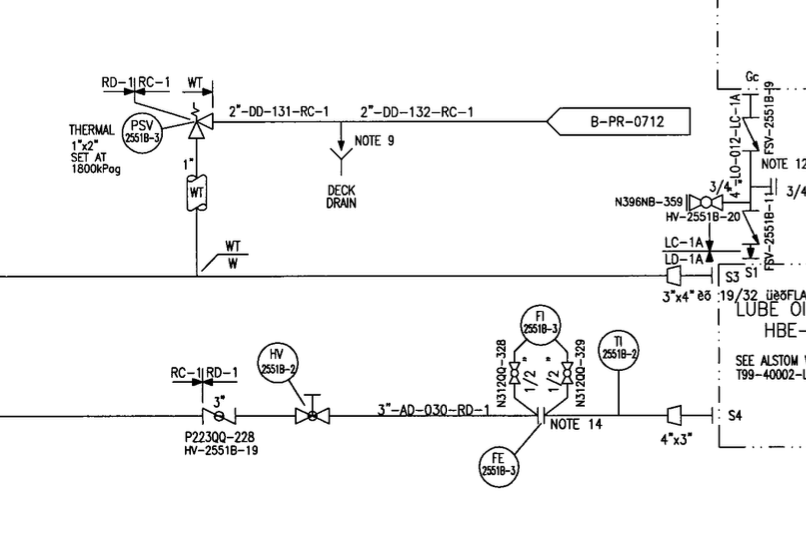Instrument: (594, 322, 643, 377), (255, 339, 306, 388), (471, 442, 524, 489), (514, 301, 564, 347), (120, 107, 165, 158)
